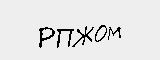Ж: (76, 24, 94, 48)
М: (108, 22, 121, 39)
О: (95, 23, 108, 42)
П: (56, 27, 74, 50)
Р: (37, 27, 54, 50)
